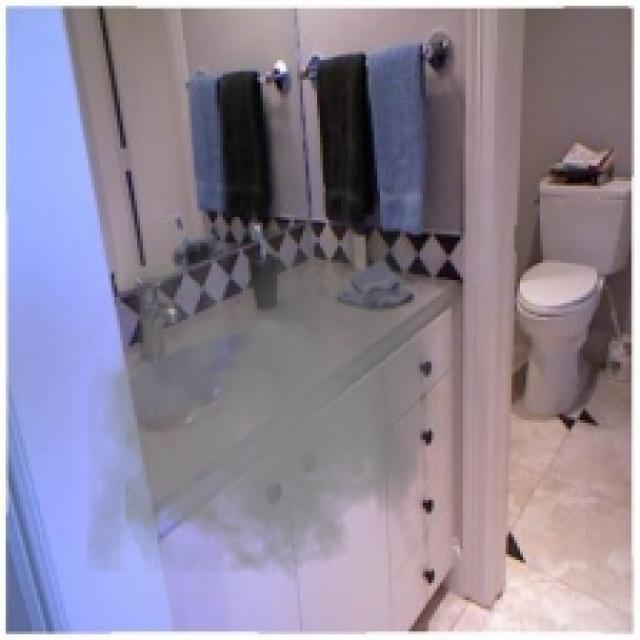smoke: (86, 223, 446, 583)
